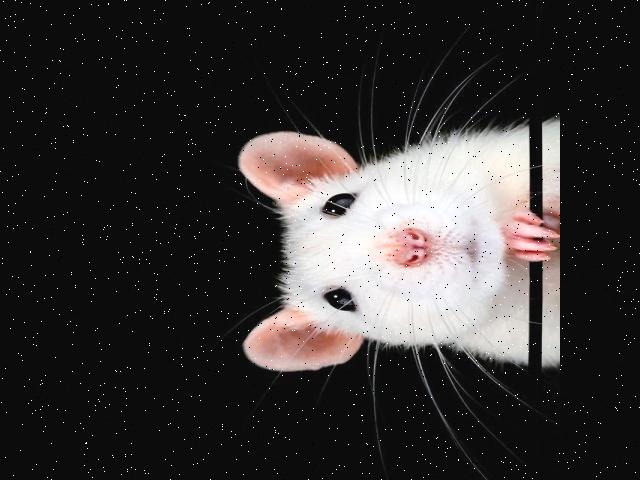Tikus: (238, 103, 558, 374)
